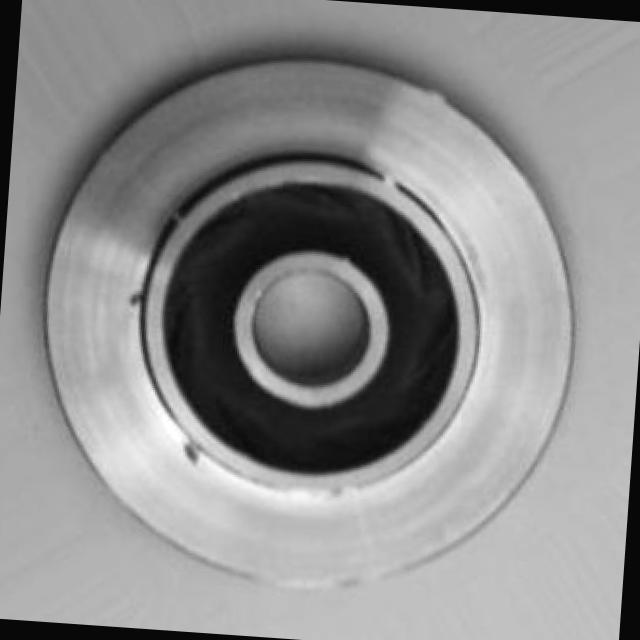Defect: (128, 287, 142, 307)
